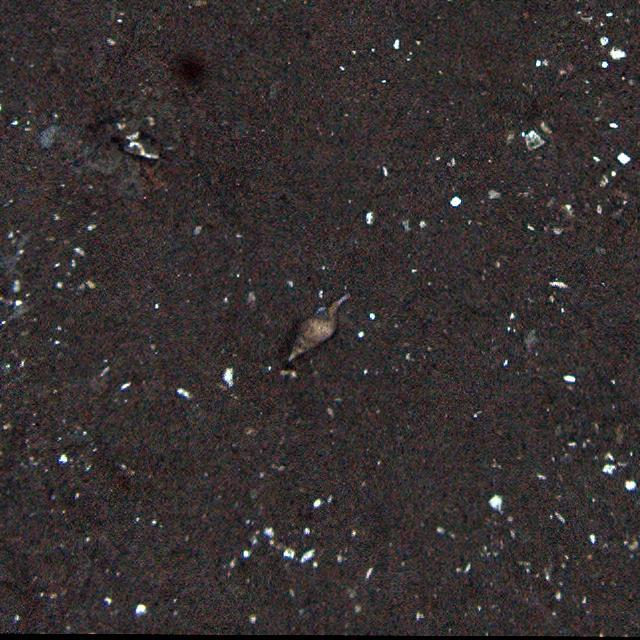whelk: (290, 297, 344, 362)
